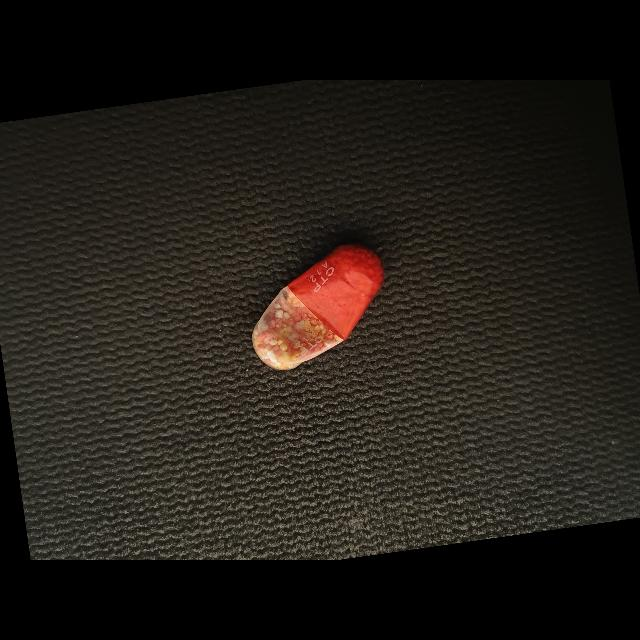Defective Capsule: (252, 245, 384, 370)
